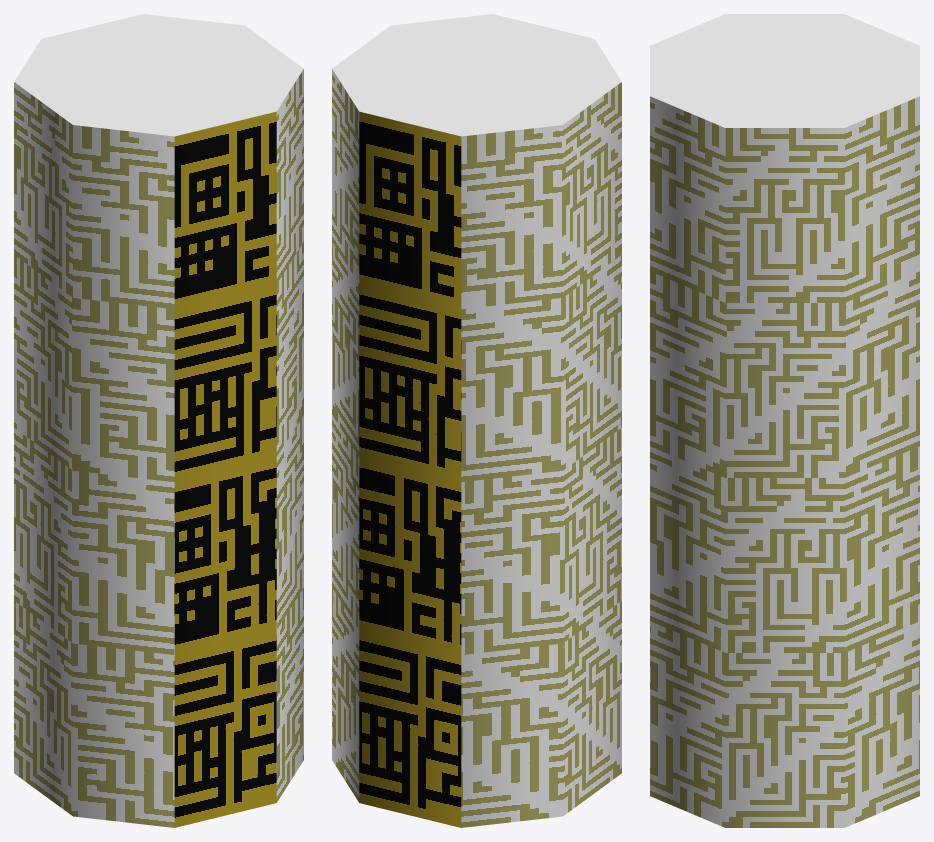
File: pillar2-convcol.gltf
3 renders of one model, left to right at view 1: azimuth 30°, elevation 25°; view 2: azimuth 150°, elevation 25°; view 3: azimuth 270°, elevation 25°, orthographic.
Parts seen in each view (by area): view 1: pillar2-convcol; view 2: pillar2-convcol; view 3: pillar2-convcol.
Part boxes in pixels (left/top/right/bottom): pillar2-convcol: left=14, top=14, right=303, bottom=827; pillar2-convcol: left=332, top=14, right=621, bottom=827; pillar2-convcol: left=650, top=14, right=919, bottom=827.
Bounding box in the file's own units: 1.4 × 4.01 × 1.4.
Materials: 1 (1 with a texture image).
